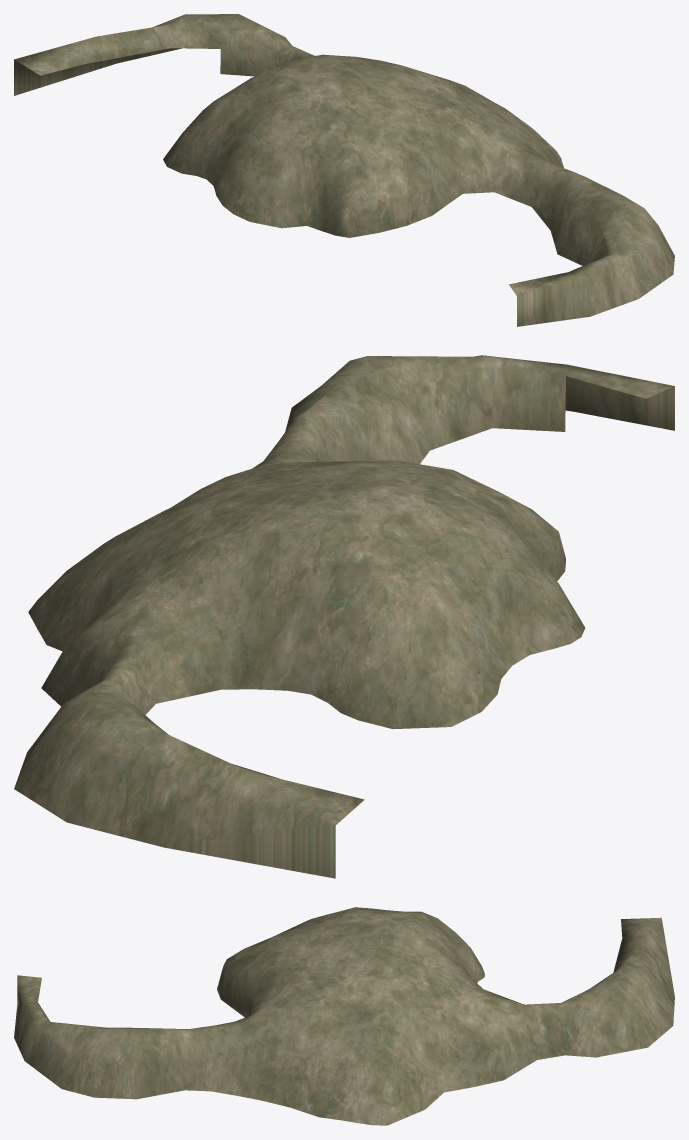
Rendered from OVERHILL_A_01_OBJECT226.fbx.
3 renders of one model, top to bottom at view 1: azimuth 30°, elevation 25°; view 2: azimuth 150°, elevation 25°; view 3: azimuth 270°, elevation 25°, orthographic. The views are drawn at different scales.
Visible parts, largest first — view 1: OVERHILL_A_01_OBJECT226; view 2: OVERHILL_A_01_OBJECT226; view 3: OVERHILL_A_01_OBJECT226.
Part boxes in pixels (x1,y1,x2,y2): OVERHILL_A_01_OBJECT226: [14, 14, 674, 326]; OVERHILL_A_01_OBJECT226: [14, 355, 674, 878]; OVERHILL_A_01_OBJECT226: [14, 907, 674, 1125].
Bounding box in the file's own units: 192520 × 63401 × 339898.
Materials: 1 (1 with a texture image).
